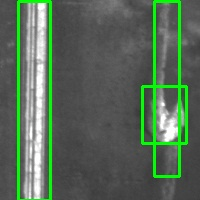scratches: (18, 1, 50, 200), (154, 1, 179, 176), (142, 86, 186, 143)
